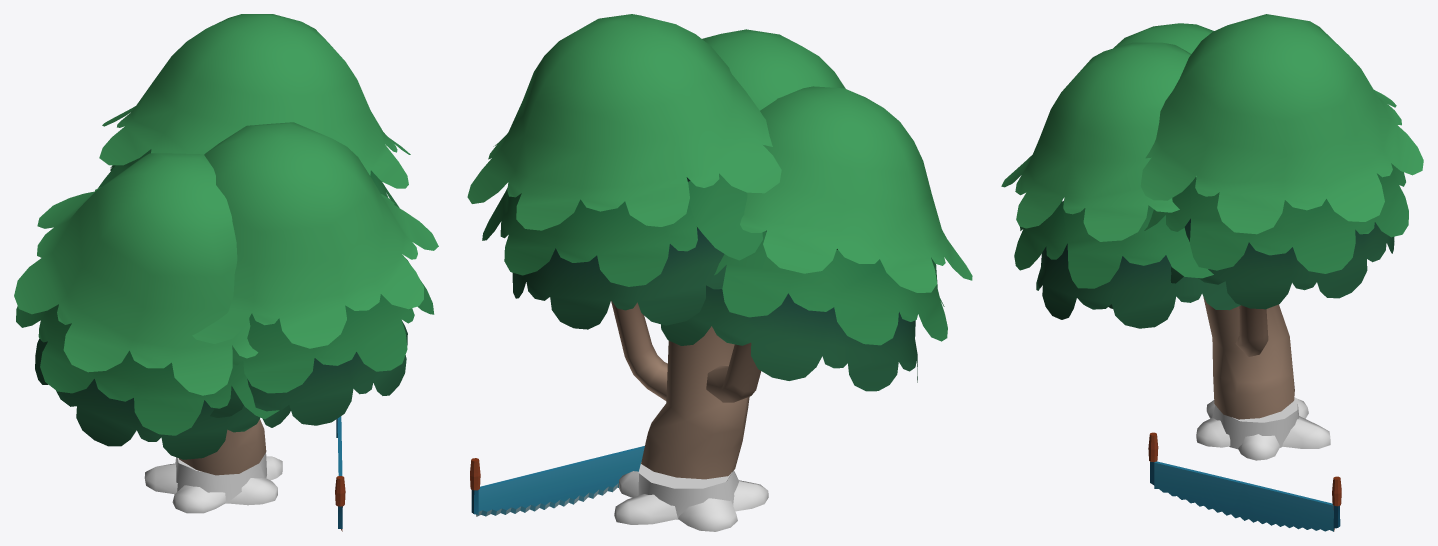
File: MightyOak.fbx
3 renders of one model, left to right at view 1: azimuth 30°, elevation 25°; view 2: azimuth 150°, elevation 25°; view 3: azimuth 270°, elevation 25°, orthographic. The views are drawn at different scales.
Visible parts, largest first — view 1: TreeOakCrown, TreeStump, TreeOakTrunk001, SawCoop; view 2: TreeOakCrown, TreeOakTrunk001, SawCoop, TreeStump, TreeStumpTop; view 3: TreeOakCrown, TreeOakTrunk001, SawCoop, TreeStump.
Part boxes in pixels (left/top/right/bottom): TreeOakCrown: left=14, top=14, right=438, bottom=459; TreeStump: left=144, top=453, right=282, bottom=513; TreeOakTrunk001: left=179, top=419, right=266, bottom=475; SawCoop: left=335, top=416, right=345, bottom=531; TreeOakCrown: left=467, top=14, right=972, bottom=391; TreeOakTrunk001: left=611, top=300, right=761, bottom=479; SawCoop: left=470, top=446, right=644, bottom=516; TreeStump: left=614, top=470, right=768, bottom=531; TreeStumpTop: left=638, top=462, right=731, bottom=488; TreeOakCrown: left=1001, top=14, right=1423, bottom=328; TreeOakTrunk001: left=1203, top=296, right=1294, bottom=419; SawCoop: left=1148, top=432, right=1341, bottom=531; TreeStump: left=1196, top=398, right=1330, bottom=460.
Size of what is drawn, in the model's own units: 4.92 by 5.71 by 4.69.
1 material, 1 textured.
